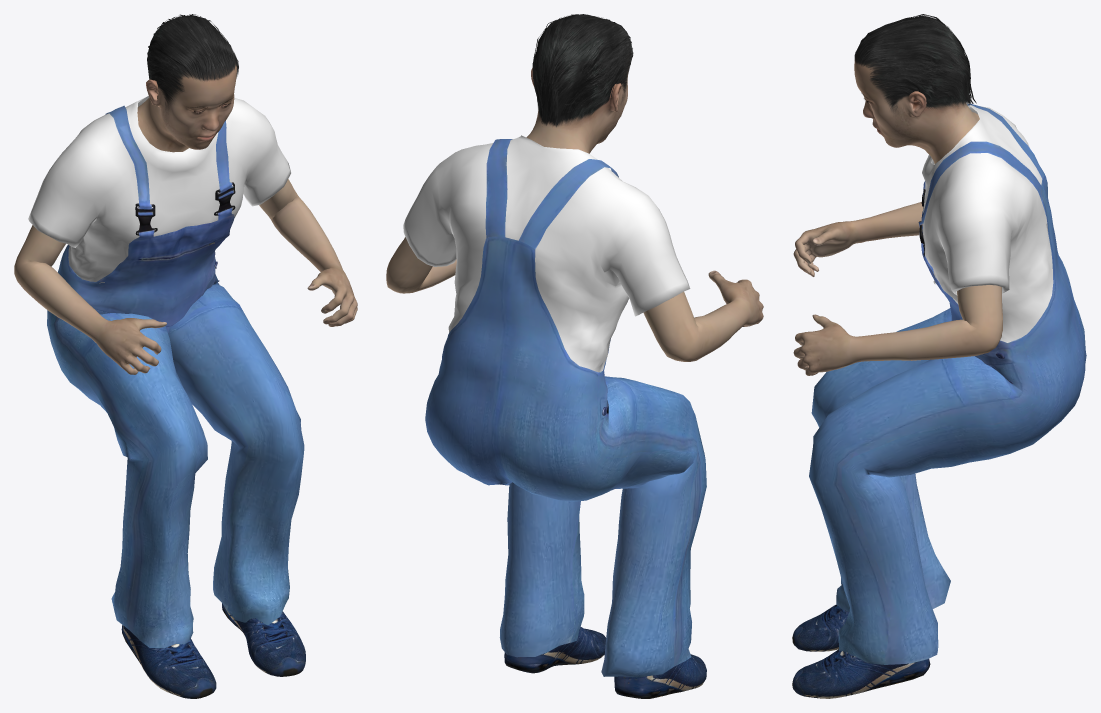
Rendered from uomo-04.glb.
3 renders of one model, left to right at view 1: azimuth 30°, elevation 25°; view 2: azimuth 150°, elevation 25°; view 3: azimuth 270°, elevation 25°, orthographic. The views are drawn at different scales.
Parts seen in each view (by area): view 1: Human.male_worksuit01, Human, Human.shoes06, Human.short04; view 2: Human.male_worksuit01, Human, Human.short04, Human.shoes06; view 3: Human.male_worksuit01, Human, Human.short04, Human.shoes06.
Part boxes in pixels (x1,y1,x2,y2): Human.male_worksuit01: [28, 96, 304, 648]; Human: [14, 64, 357, 374]; Human.shoes06: [121, 603, 305, 698]; Human.short04: [147, 14, 238, 109]; Human.male_worksuit01: [403, 135, 706, 677]; Human: [386, 68, 763, 361]; Human.short04: [532, 14, 633, 127]; Human.shoes06: [504, 627, 706, 698]; Human.male_worksuit01: [809, 103, 1086, 664]; Human: [793, 57, 1002, 375]; Human.short04: [854, 14, 976, 113]; Human.shoes06: [792, 605, 930, 698].
Size of the model in its own units: 0.6443 by 1.36 by 0.5593.
12 materials, 12 textured.
